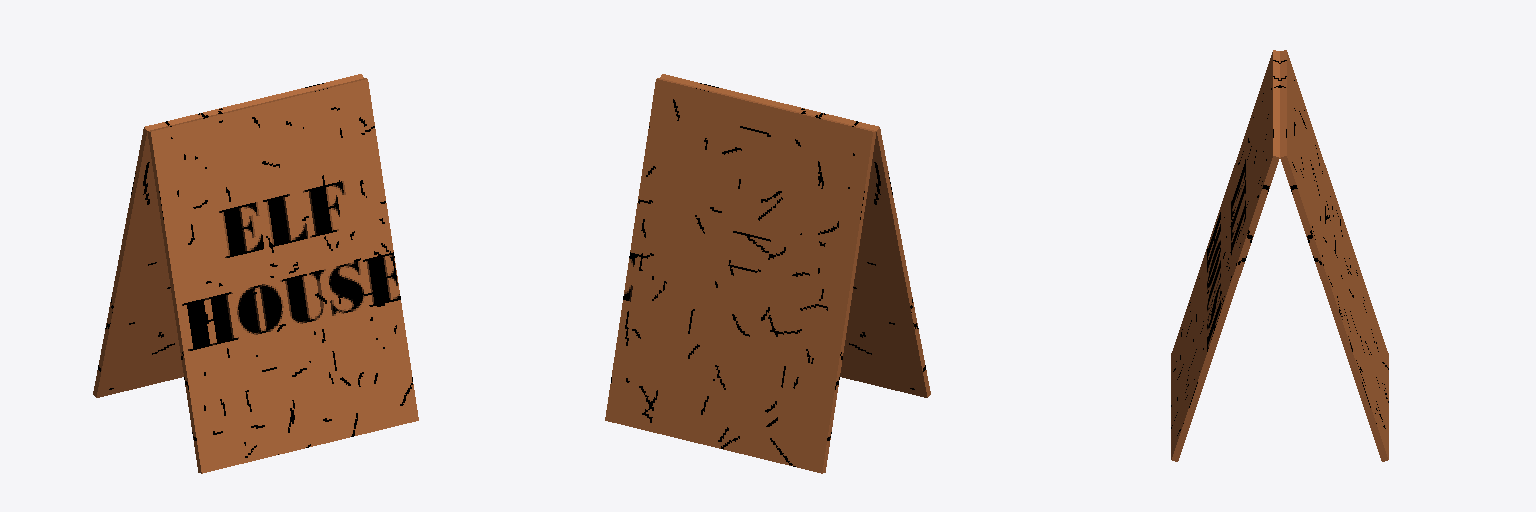
3 renders of one model, left to right at view 1: azimuth 30°, elevation 25°; view 2: azimuth 150°, elevation 25°; view 3: azimuth 270°, elevation 25°, orthographic.
Parts seen in each view (by area): view 1: Box02; view 2: Box02; view 3: Box02.
Boxes of the visible parts, box(x1,y1,x2,y2) form: Box02: box(93, 74, 418, 473); Box02: box(605, 74, 930, 473); Box02: box(1171, 50, 1388, 461).
Size of the model in its own units: 28.14 by 37.92 by 24.4.
Materials: 1 (1 with a texture image).